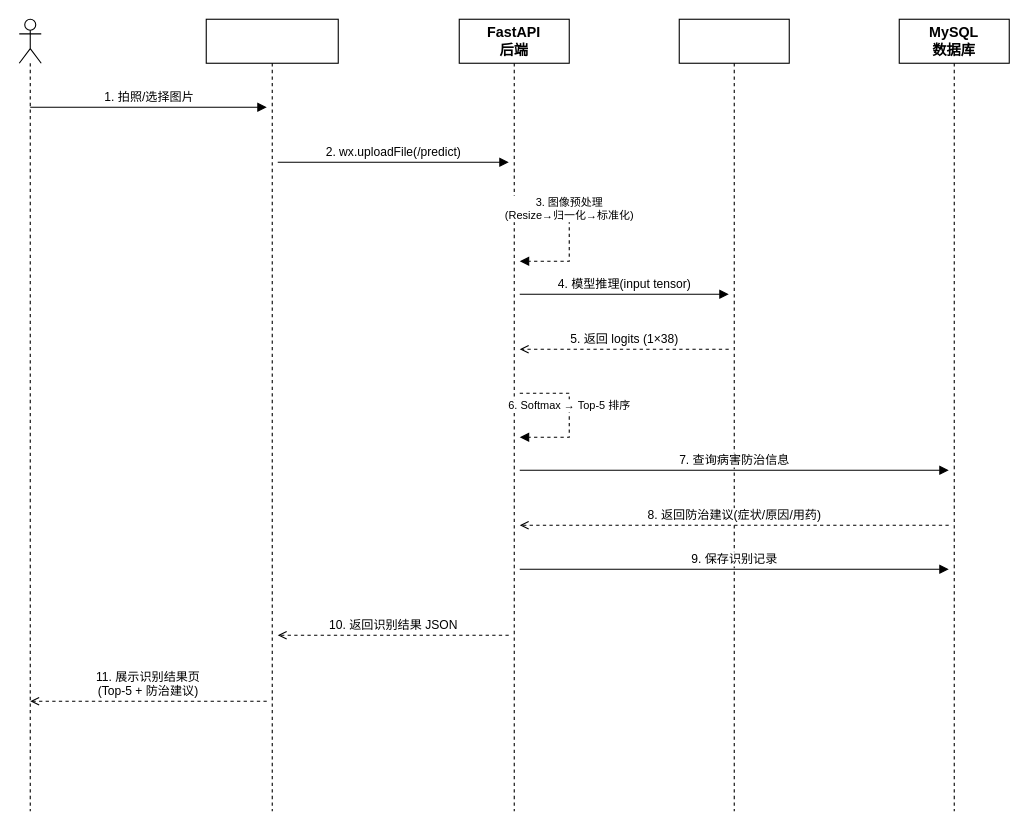
Image size: 1029x831. Some labels were removed from this diagram. Each missing label, with the box of its shape:
ONNX Runtime: (678, 18, 789, 811)
微信小程序: (205, 18, 338, 811)
